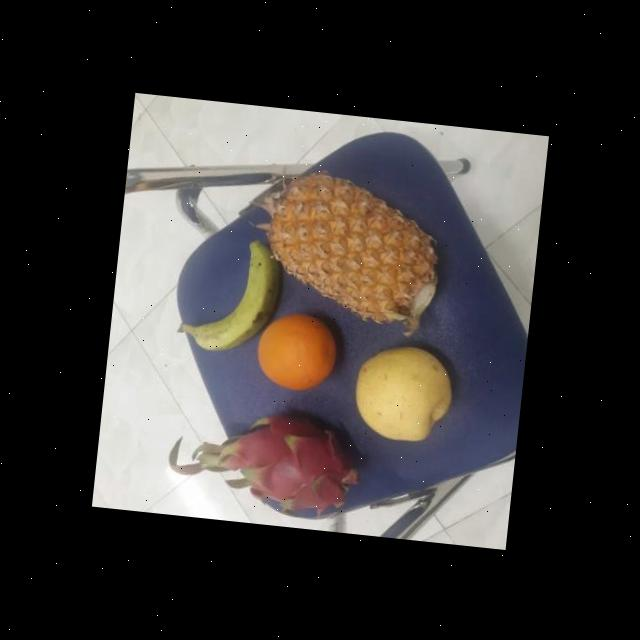banana: (175, 230, 282, 356)
orange: (250, 302, 342, 398)
pear: (346, 334, 458, 448)
pineapple: (260, 164, 444, 332)
pitaya: (218, 398, 369, 521)
